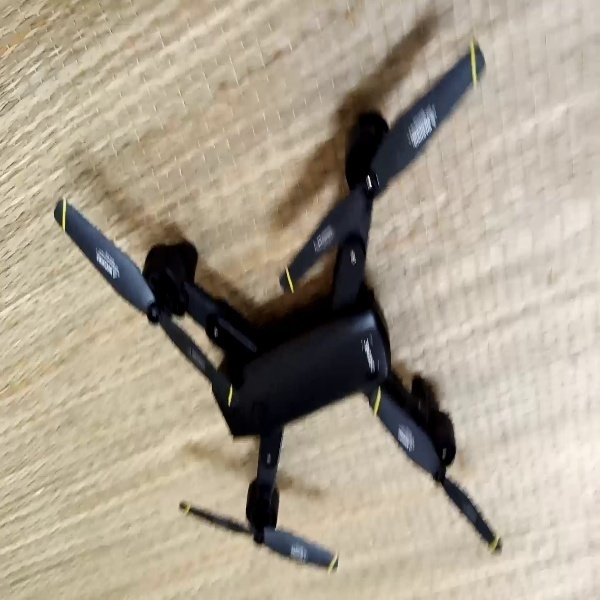drone: (53, 42, 505, 576)
